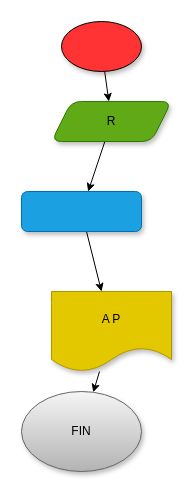
The diagram is 195 pixels wide and 496 high, and some of its shapes have lost their labels. Each missing label, with the centre of its shape:
"A=PI*R*R P=2*PI*R" belongs at pixel 82 212.
"inicio" belongs at pixel 102 47.
